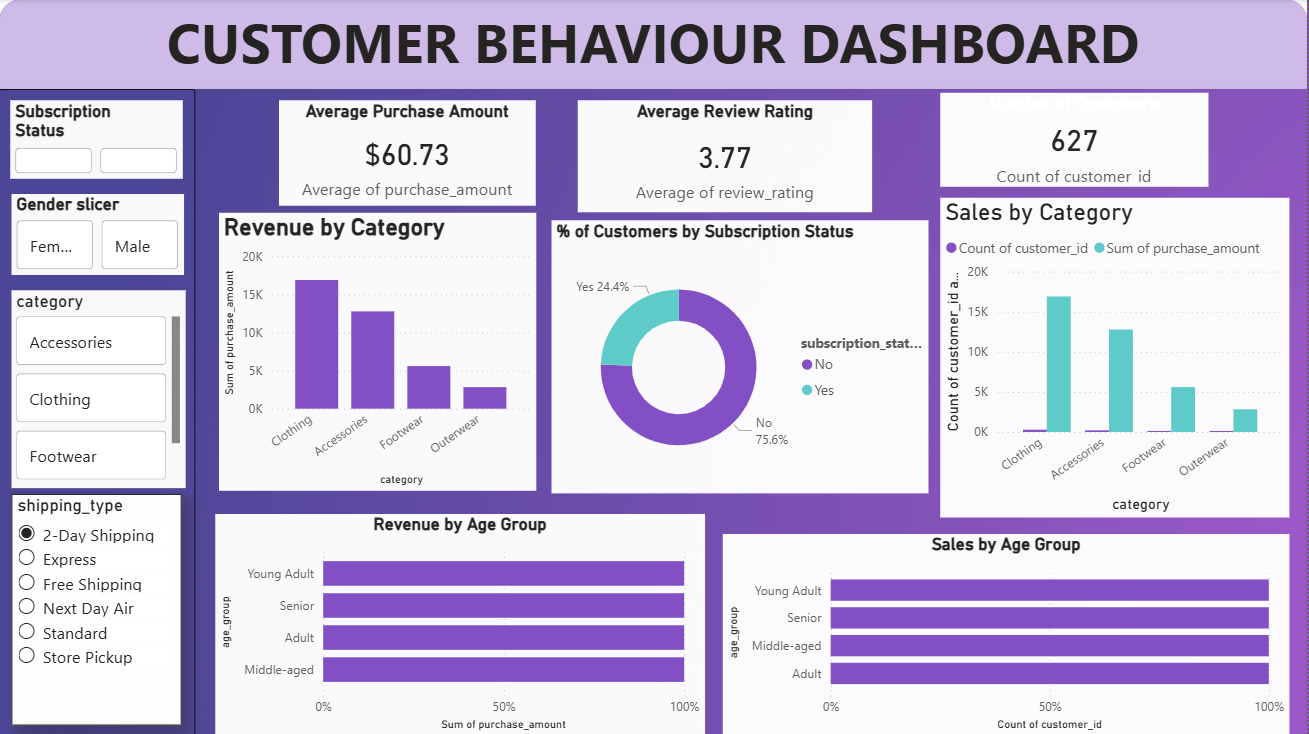

What the dashboard file says about the page in this screenshot:
{"tool":"powerbi","page":{"name":"Page 1","canvas":[1280,720],"ordinal":0},"visuals":[{"type":"card","title":"Number of Customers","fields":{"Values":["Count(customer_dashboard_data.customer_id)"]},"box":[920.8,91.9,262.1,91.9],"z":0},{"type":"card","title":"Average Purchase Amount","fields":{"Values":["Avg(customer_dashboard_data.purchase_amount)"]},"box":[274.4,98.8,251.1,102.9],"z":1000},{"type":"card","title":"Average Review Rating","fields":{"Values":["Avg(customer_dashboard_data.review_rating)"]},"box":[566.7,98.8,288.2,109.8],"z":2000},{"type":"shape","box":[0,0,1280.3,87.8],"z":3000},{"type":"textbox","box":[0,0,1280.3,87.8],"z":4000},{"type":"donutChart","title":"% of Customers by Subscription Status","fields":{"Category":["customer_dashboard_data.subscription_status"],"Y":["CountNonNull(customer_dashboard_data.customer_id)"]},"box":[540.7,216.8,369.1,267.6],"z":5000},{"type":"clusteredColumnChart","title":"Revenue by Category","fields":{"Y":["Sum(customer_dashboard_data.purchase_amount)"],"Category":["customer_dashboard_data.category"]},"box":[215.4,208.6,310.1,271.7],"z":6000},{"type":"clusteredColumnChart","title":"Sales by Category","fields":{"Y":["CountNonNull(customer_dashboard_data.customer_id)","Sum(customer_dashboard_data.purchase_amount)"],"Category":["customer_dashboard_data.category"]},"box":[920.8,194.9,341.7,312.9],"z":7000},{"type":"textbox","box":[0,87.8,192.1,632.6],"z":8000},{"type":"advancedSlicerVisual","title":"Subscription Status","fields":{"Values":["customer_dashboard_data.subscription_status"]},"box":[11,98.8,168.8,76.8],"z":9000},{"type":"advancedSlicerVisual","title":"Gender slicer","fields":{"Values":["customer_dashboard_data.gender"]},"box":[12.3,190.7,168.8,79.6],"z":10000},{"type":"advancedSlicerVisual","fields":{"Values":["customer_dashboard_data.category"]},"box":[12.3,285.4,170.2,193.5],"z":11000},{"type":"listSlicer","fields":{"Values":["customer_dashboard_data.shipping_type"]},"box":[12.3,484.4,166,226.4],"z":12000},{"type":"hundredPercentStackedBarChart","title":"Revenue by Age Group","fields":{"Category":["customer_dashboard_data.age_group"],"Y":["Sum(customer_dashboard_data.purchase_amount)"]},"box":[211.3,503.6,478.9,216.8],"z":13000},{"type":"hundredPercentStackedBarChart","title":"Sales by Age Group","fields":{"Category":["customer_dashboard_data.age_group"],"Y":["CountNonNull(customer_dashboard_data.customer_id)"]},"box":[708.1,522.8,554.4,197.6],"z":14000}]}

Visuals, with their boxes in screenshot pixels (x1, y1, x2, y2), scaled from the page's 1280x720 canvas onto the 1309x734 screenshot:
"Number of Customers" card: 942/94/1210/187
"Average Purchase Amount" card: 281/101/537/206
"Average Review Rating" card: 580/101/874/213
shape: 0/0/1308/90
textbox: 0/0/1308/90
"% of Customers by Subscription Status" donutChart: 553/221/930/494
"Revenue by Category" clusteredColumnChart: 220/213/537/490
"Sales by Category" clusteredColumnChart: 942/199/1291/518
textbox: 0/90/196/733
"Subscription Status" advancedSlicerVisual: 11/101/184/179
"Gender slicer" advancedSlicerVisual: 13/194/185/276
advancedSlicerVisual - customer_dashboard_data.category: 13/291/187/488
listSlicer - customer_dashboard_data.shipping_type: 13/494/182/725
"Revenue by Age Group" hundredPercentStackedBarChart: 216/513/706/733
"Sales by Age Group" hundredPercentStackedBarChart: 724/533/1291/733
